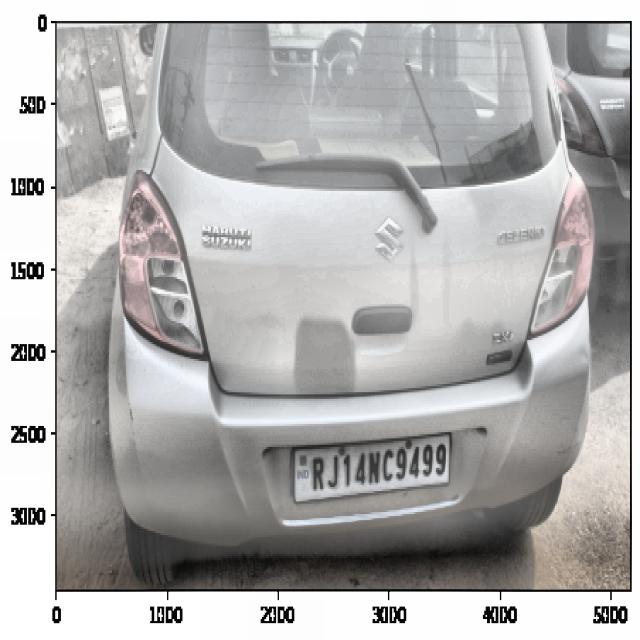license_plate: (307, 438, 451, 494)
